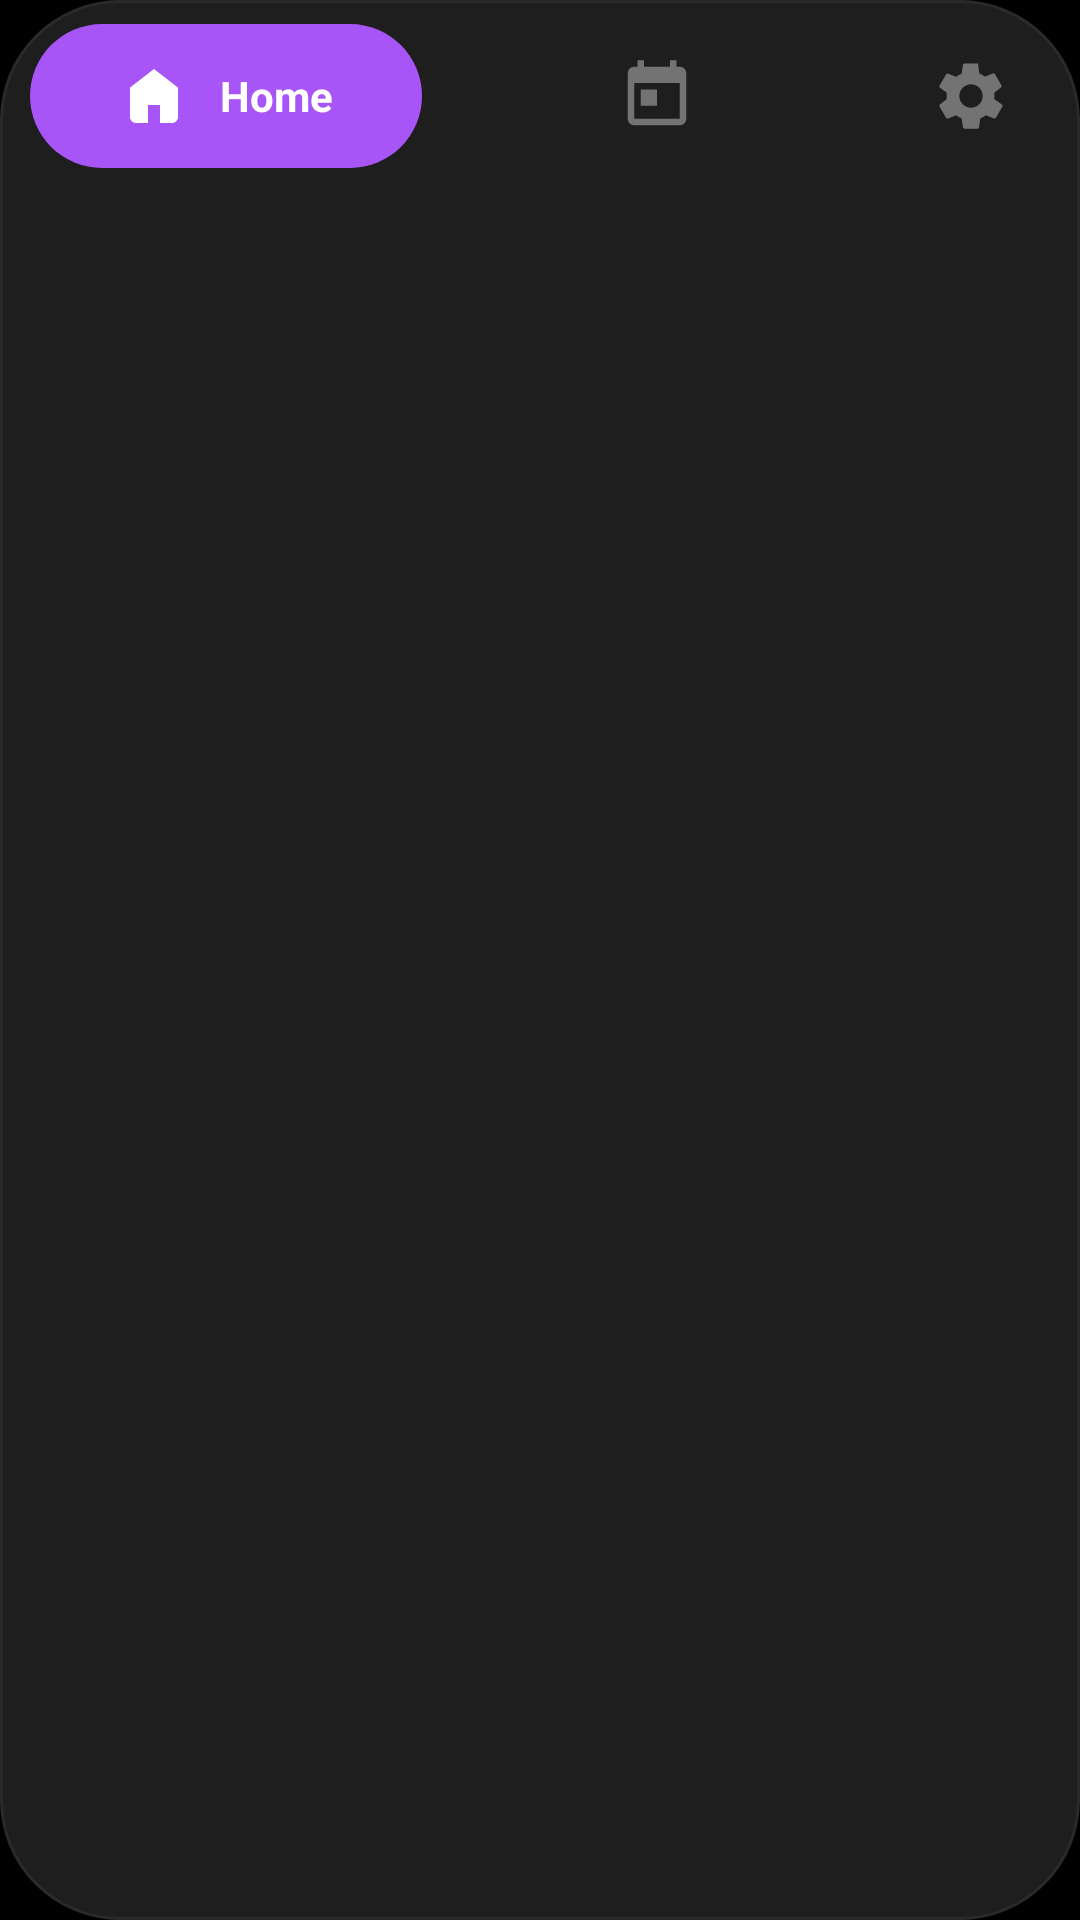

Locate icon controls on the screen. Image size 1080px x 1920px, boxes as bbox=(x1, y1, x2, y2).
calendar: bbox=(628, 60, 686, 125)
settings: bbox=(939, 63, 1003, 129)
